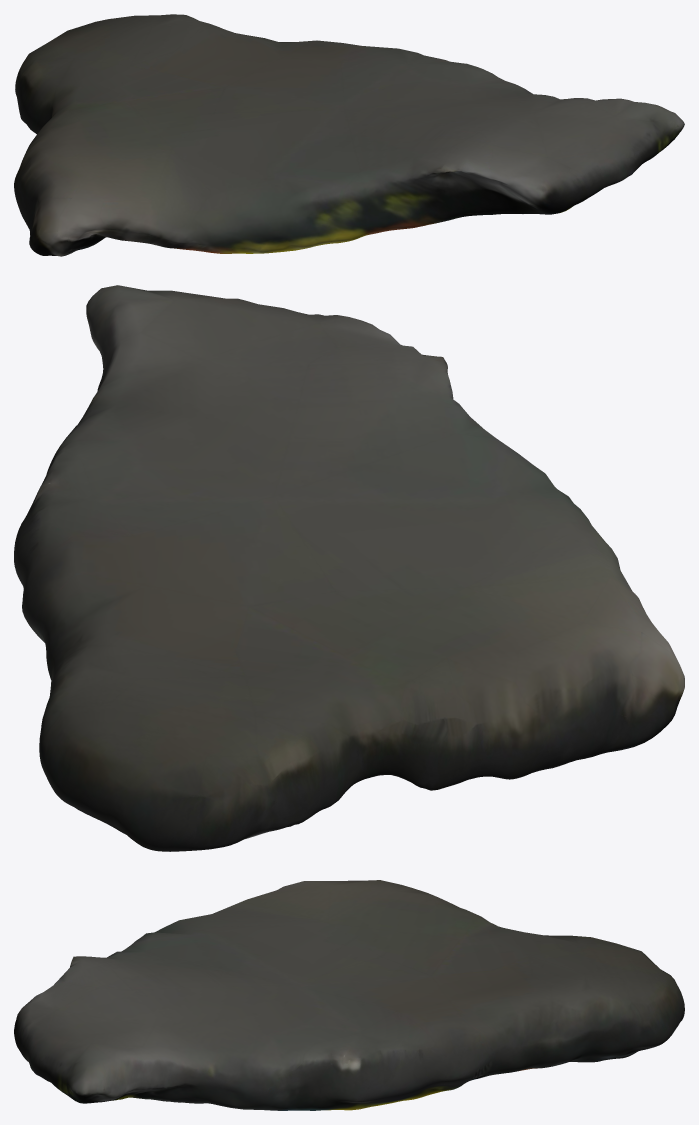
The picture shows the model from 3 angles, top to bottom: view 1: azimuth 30°, elevation 25°; view 2: azimuth 150°, elevation 25°; view 3: azimuth 270°, elevation 25°; orthographic projection. The views are drawn at different scales.
Bounding box in the file's own units: 0.5165 × 0.1184 × 0.559.
Materials: 1 (1 with a texture image).
